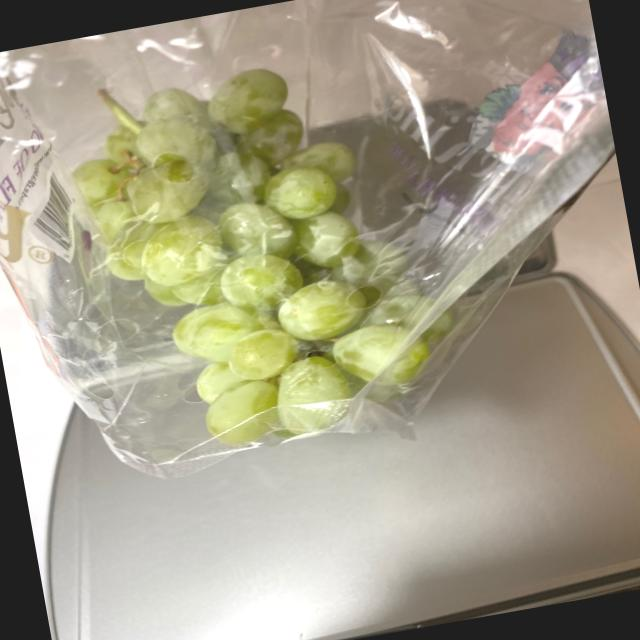grapes: (43, 29, 465, 452)
